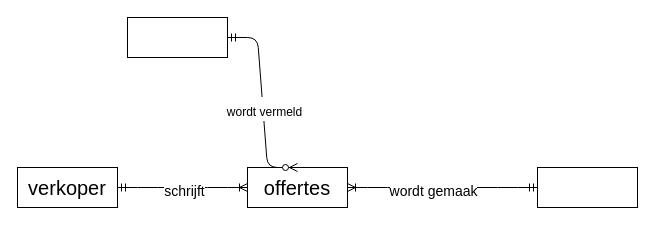
Some shapes in this 655 by 225 pixel diagram are drawn without their labels. The shapes that lost their labels are listed below. From the top down, each one's centre as x and y in pixels, then its label:
At pixel 177 37: "product".
At pixel 587 187: "klant".
